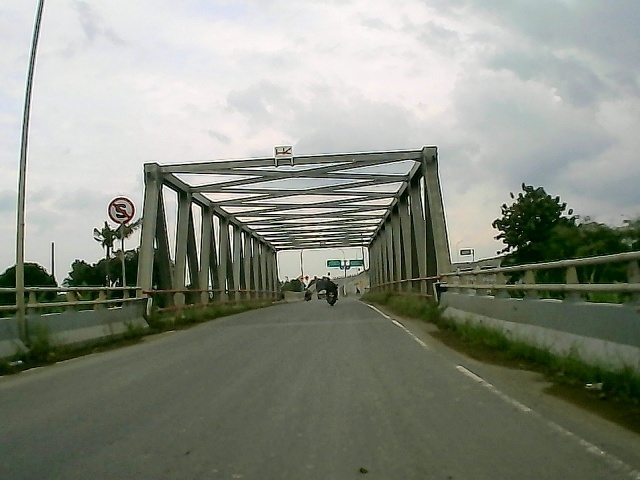Dilarang berhenti: (106, 194, 137, 229)
